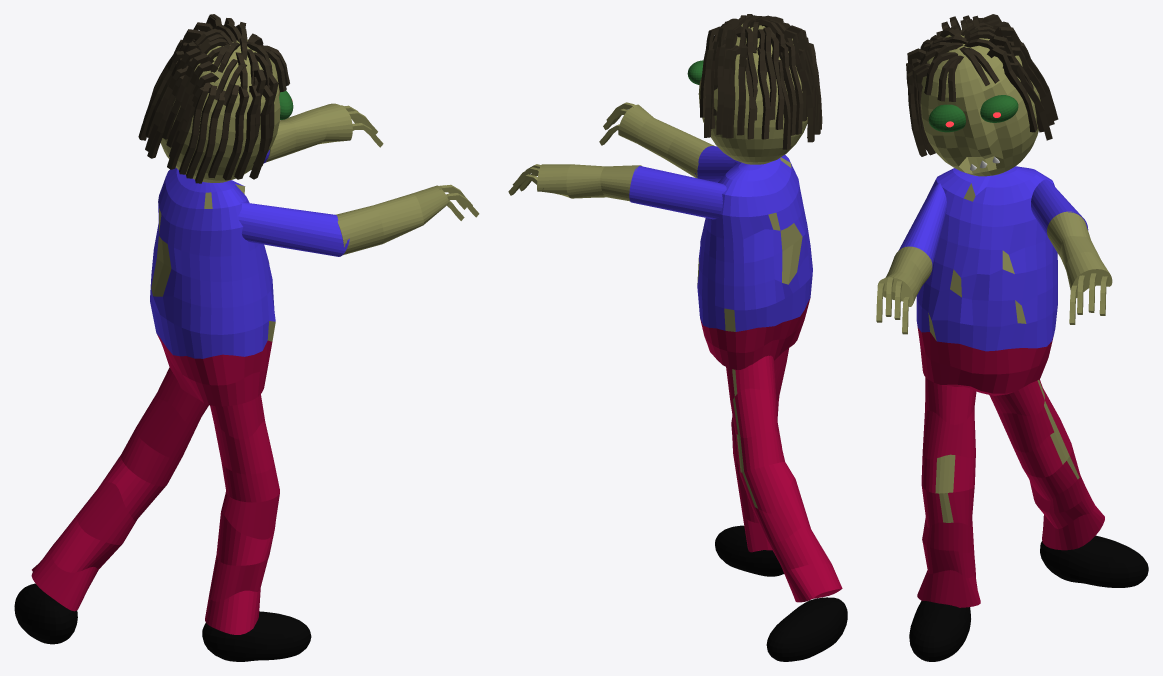
The model's file is Zombie.fbx.
The picture shows the model from 3 angles, left to right: view 1: azimuth 30°, elevation 25°; view 2: azimuth 150°, elevation 25°; view 3: azimuth 270°, elevation 25°; orthographic projection. The views are drawn at different scales.
Parts seen in each view (by area): view 1: Sphere, Cylinder.005, Cylinder.004, Cylinder.002, Cylinder.003, Sphere.003, Head, Cylinder.001, Sphere.004, Cube.007, Cube.053, Cube.010 (+6 smaller); view 2: Sphere, Cylinder.005, Sphere.004, Head, Cylinder, Cylinder.001, Cylinder.003, Sphere.003, Cylinder.004, Cylinder.002, Cube.030, Cube.004 (+12 smaller); view 3: Sphere, Cylinder.004, Cylinder.005, Head, Sphere.004, Sphere.003, Cylinder.001, Cylinder.002, Cylinder.003, Cylinder, Eye, Eye.001 (+7 smaller).
Boxes of the visible parts, x1,y1,x2,y2 form: Sphere: (150, 167, 275, 406); Cylinder.005: (31, 367, 208, 611); Cylinder.004: (205, 394, 279, 634); Cylinder.002: (238, 202, 349, 256); Cylinder.003: (335, 185, 448, 254); Sphere.003: (202, 611, 311, 661); Head: (160, 39, 280, 182); Cylinder.001: (266, 103, 352, 162); Sphere.004: (14, 583, 77, 644); Cube.007: (234, 85, 260, 179); Cube.053: (222, 86, 249, 180); Cube.010: (249, 85, 273, 179); Sphere: (697, 155, 812, 369); Cylinder.005: (726, 355, 842, 602); Sphere.004: (766, 597, 847, 661); Head: (698, 24, 807, 164); Cylinder: (629, 166, 726, 219); Cylinder.001: (537, 164, 641, 201); Cylinder.003: (618, 104, 714, 178); Sphere.003: (715, 525, 784, 576); Cylinder.004: (731, 348, 788, 552); Cylinder.002: (695, 146, 736, 182); Cube.030: (757, 47, 770, 139); Cube.004: (737, 44, 753, 135); Sphere: (916, 166, 1057, 395); Cylinder.004: (917, 377, 980, 607); Cylinder.005: (989, 379, 1104, 550); Head: (920, 30, 1040, 176); Sphere.004: (1040, 535, 1148, 587); Sphere.003: (909, 601, 970, 661); Cylinder.001: (1047, 211, 1112, 298); Cylinder.002: (898, 183, 946, 276); Cylinder.003: (877, 246, 932, 306); Cylinder: (1031, 179, 1088, 235); Eye: (928, 104, 965, 132); Eye.001: (980, 95, 1018, 122).
Bounding box in the file's own units: 644 × 1085 × 436.
